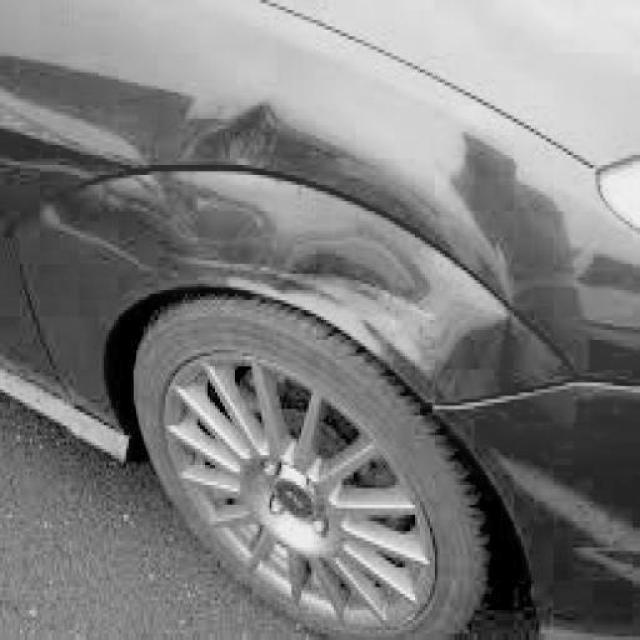car damage: (162, 237, 444, 353), (215, 90, 294, 189)
